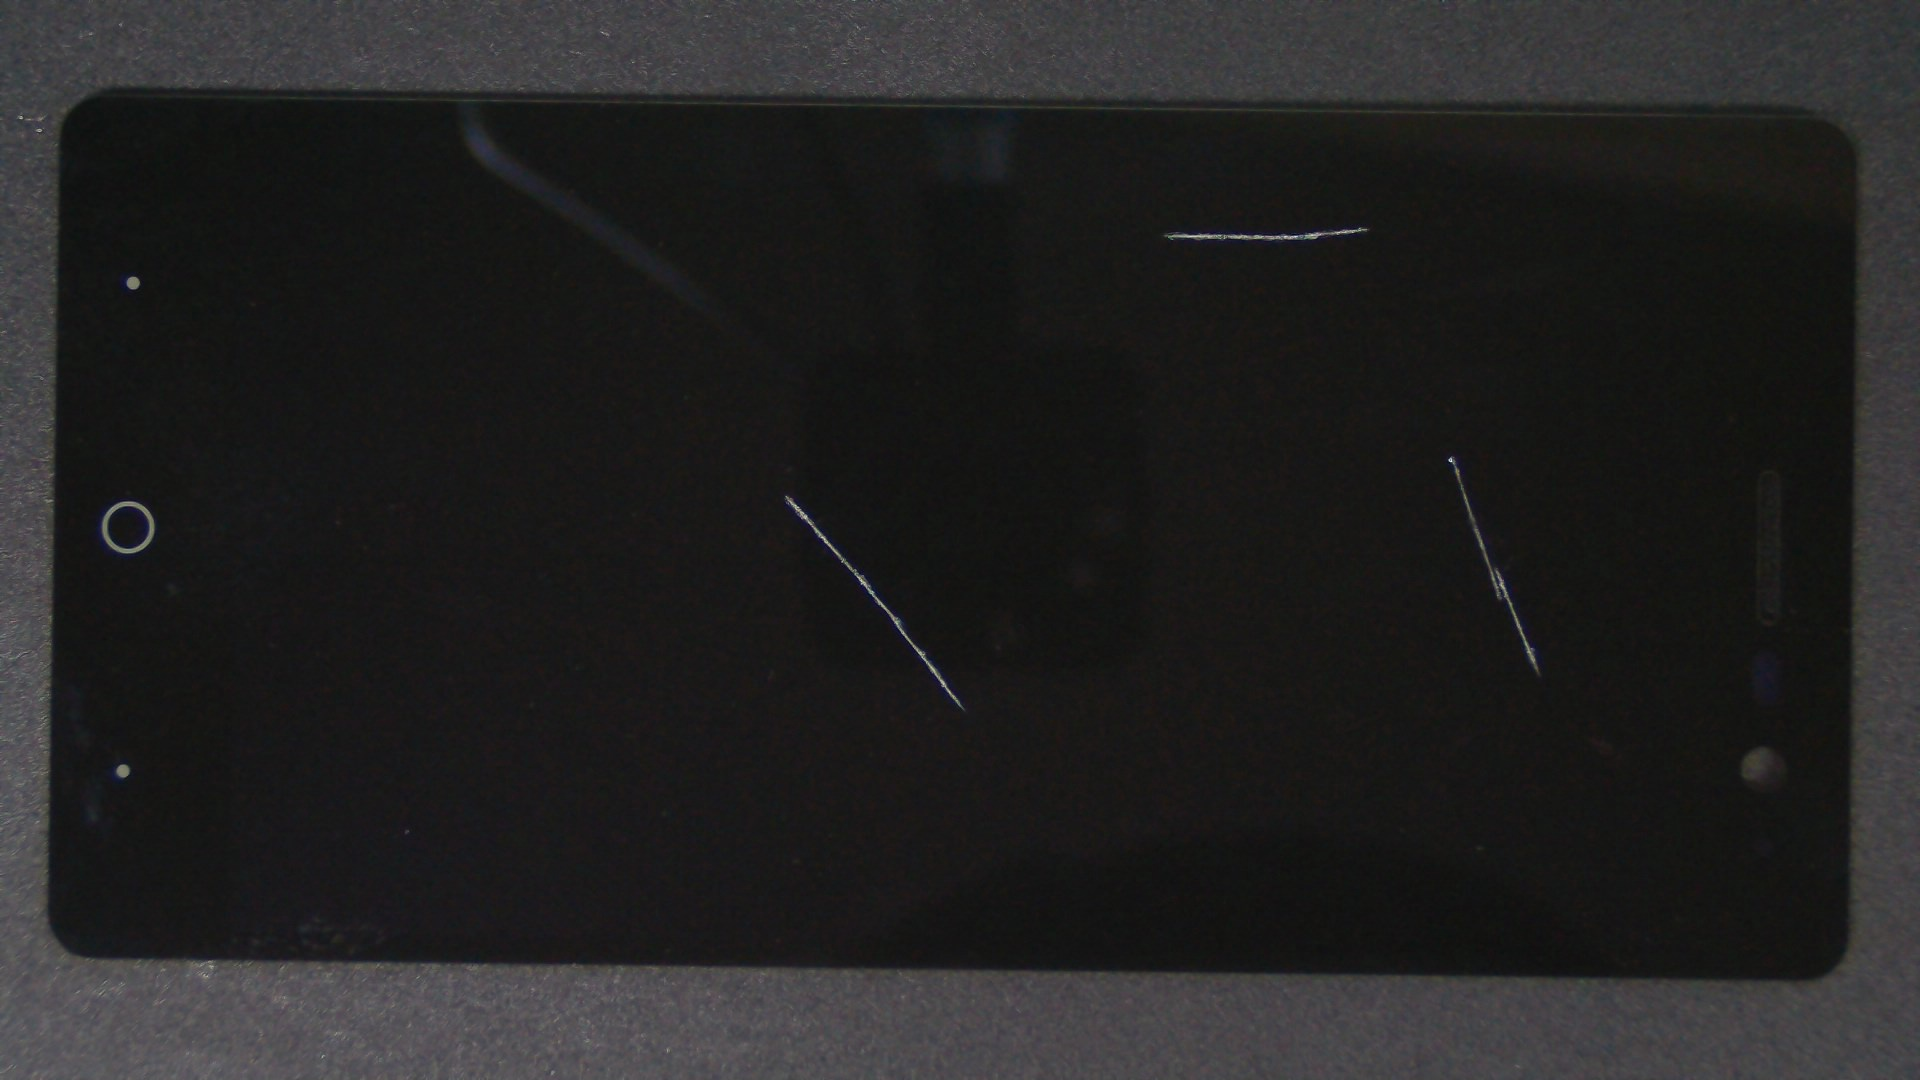oil: (728, 225, 1920, 684), (393, 247, 1178, 741), (680, 112, 1920, 339)
